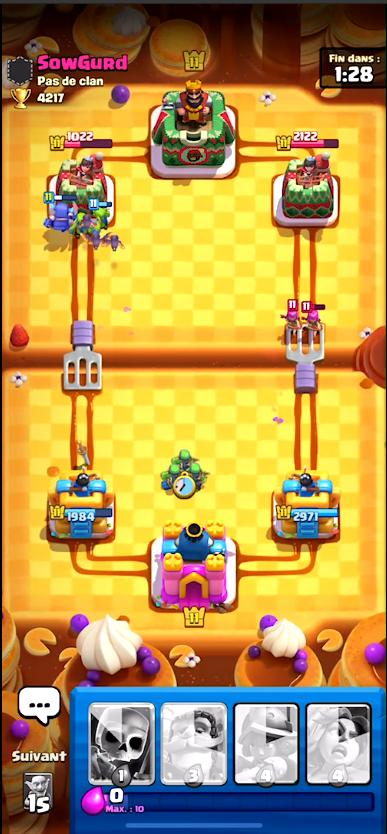archere: (300, 299, 325, 332), (280, 299, 300, 329)
gobelin: (90, 200, 110, 222)
gobelin_lances: (185, 459, 205, 483), (162, 461, 177, 478), (176, 450, 195, 461)
mini_PEKKA: (44, 193, 75, 235), (104, 231, 125, 249), (75, 214, 97, 230), (84, 232, 104, 249)
